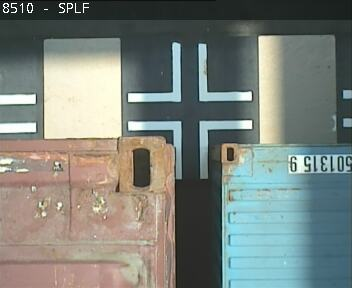groundmarker_1: (128, 42, 251, 104), (128, 118, 252, 179)
